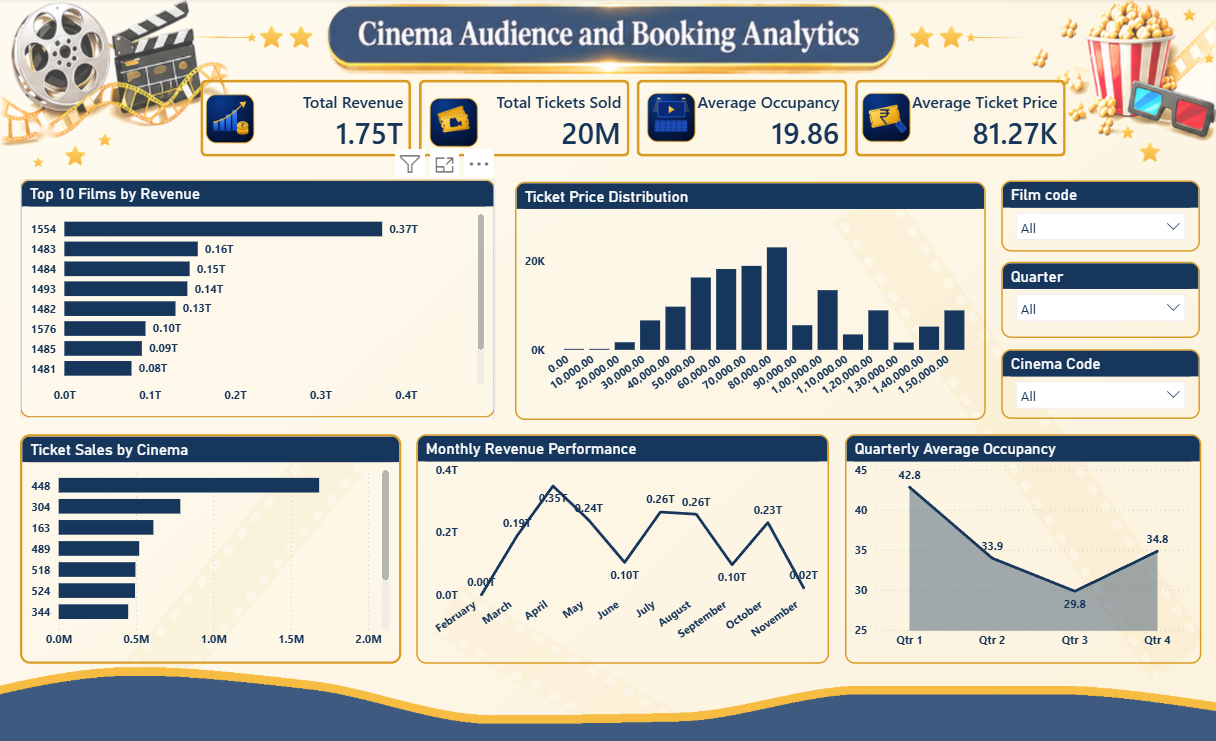

The page's visual inventory and layout, read from the dashboard file:
{"tool":"powerbi","page":{"name":"Report","canvas":[1330,814],"ordinal":0},"visuals":[{"type":"slicer","title":"Quarter","fields":{"Values":["vw_CinemaTicket_Cleaned.date.Variation.Date Hierarchy.Quarter"]},"box":[1093.1,287.5,216.7,83.3],"z":0},{"type":"slicer","title":"Film code","fields":{"Values":["vw_CinemaTicket_Cleaned.film_code"]},"box":[1093.1,198.6,216.7,77.8],"z":1000},{"type":"cardVisual","fields":{"Data":["vw_CinemaTicket_Cleaned.Total Revenue","vw_CinemaTicket_Cleaned.Total Tickets Sold","vw_CinemaTicket_Cleaned.Average Occupancy %","vw_CinemaTicket_Cleaned.Average Ticket Price"]},"box":[201.4,72.9,980,118.6],"z":2000},{"type":"clusteredBarChart","title":"Top 10 Films by Revenue","fields":{"Category":["vw_CinemaTicket_Cleaned.film_code"],"Y":["vw_CinemaTicket_Cleaned.Total Revenue"]},"box":[21.7,198.3,518.3,260],"z":3000},{"type":"lineChart","title":"Monthly Revenue Performance","fields":{"Category":["vw_CinemaTicket_Cleaned.date.Variation.Date Hierarchy.Month"],"Y":["vw_CinemaTicket_Cleaned.Total Revenue"]},"box":[454.3,475.7,450,250],"z":4000},{"type":"columnChart","title":"Ticket Price Distribution","fields":{"Category":["vw_CinemaTicket_Cleaned.ticket_price (bins)"],"Y":["CountNonNull(vw_CinemaTicket_Cleaned.ticket_price)"]},"box":[561.7,200,513.3,260],"z":5000},{"type":"barChart","title":"Ticket Sales by Cinema","fields":{"Category":["vw_CinemaTicket_Cleaned.cinema_code"],"Y":["Sum(vw_CinemaTicket_Cleaned.tickets_sold)"]},"box":[21.4,475.7,415.7,250],"z":6000},{"type":"areaChart","title":"Quarterly Average Occupancy","fields":{"Category":["vw_CinemaTicket_Cleaned.date.Variation.Date Hierarchy.Quarter"],"Y":["Avg(vw_CinemaTicket_Cleaned.occu_perc)"]},"box":[921.4,475.7,388.6,250],"z":7000},{"type":"slicer","title":"Cinema Code","fields":{"Values":["vw_Cinema_Performance.cinema_code"]},"box":[1093.1,383.3,216.7,76.4],"z":8000},{"type":"image","box":[221.4,104.3,60,55.7],"z":9000},{"type":"image","box":[465.7,107.1,60,55.7],"z":10000},{"type":"image","box":[702.1,102.6,60,55.7],"z":11000},{"type":"image","box":[937.1,102.9,60,55.7],"z":12000}]}

Visuals, with their boxes in screenshot pixels (x1, y1, x2, y2), scaled from the page's 1330x814 canvas onto the 1216x741 screenshot:
"Quarter" slicer: (999, 262, 1198, 338)
"Film code" slicer: (999, 181, 1198, 252)
cardVisual - vw_CinemaTicket_Cleaned.Total Revenue x vw_CinemaTicket_Cleaned.Total Tickets Sold: (184, 66, 1080, 174)
"Top 10 Films by Revenue" clusteredBarChart: (20, 181, 494, 417)
"Monthly Revenue Performance" lineChart: (415, 433, 827, 661)
"Ticket Price Distribution" columnChart: (514, 182, 983, 419)
"Ticket Sales by Cinema" barChart: (20, 433, 400, 661)
"Quarterly Average Occupancy" areaChart: (842, 433, 1198, 661)
"Cinema Code" slicer: (999, 349, 1198, 418)
image: (202, 95, 257, 146)
image: (426, 97, 481, 148)
image: (642, 93, 697, 144)
image: (857, 94, 912, 144)
